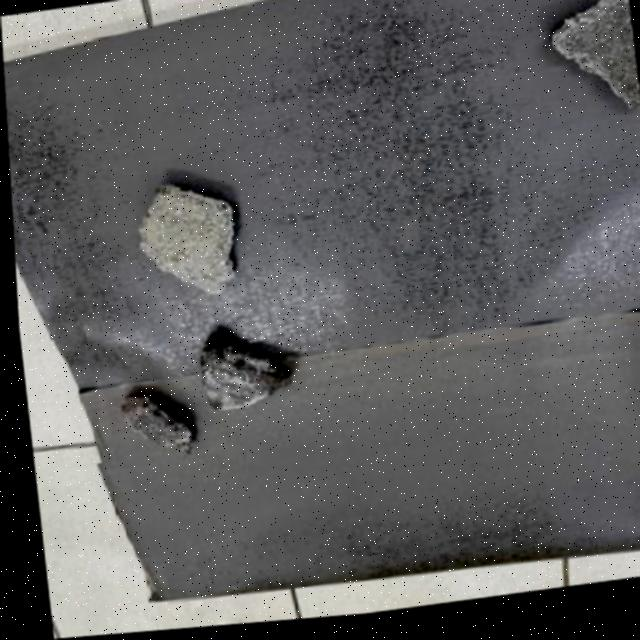Road Debris: (129, 179, 237, 306), (543, 0, 640, 135), (190, 351, 276, 422), (114, 397, 184, 464)
